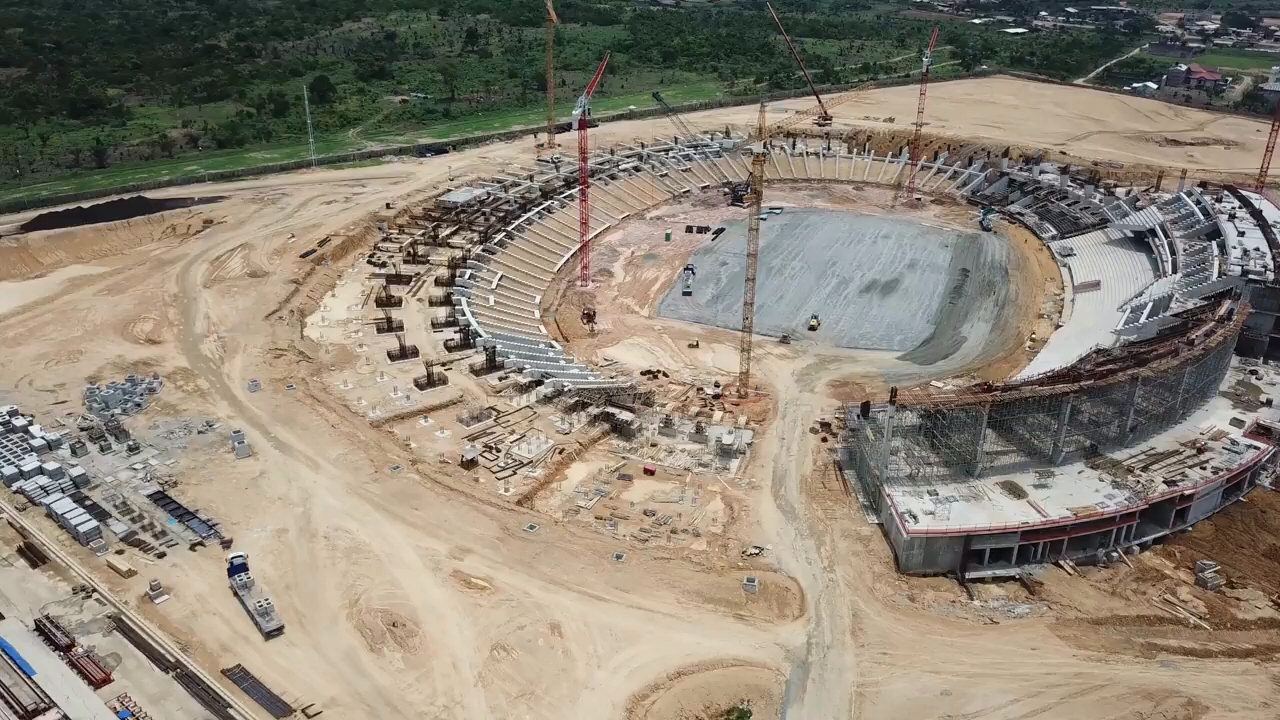kamyon: (219, 547, 290, 643)
